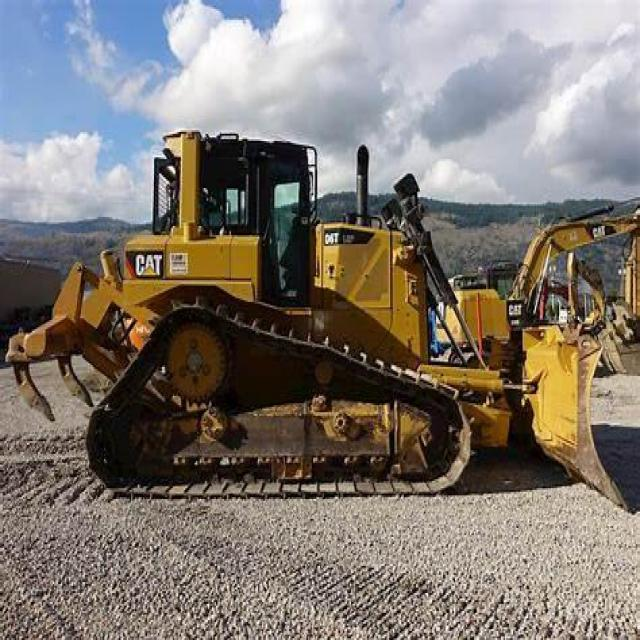Bulldozer: (8, 96, 621, 522)
